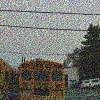buses: (18, 57, 68, 100)
